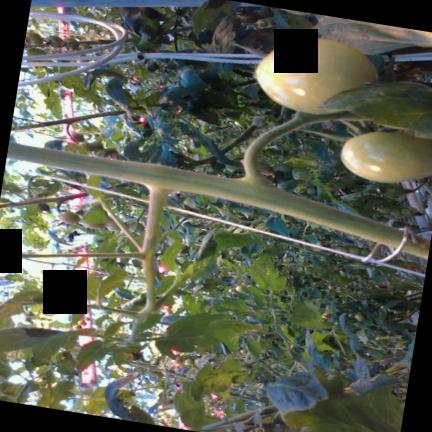6kp_peduncle: (191, 118, 312, 218), (54, 117, 78, 138), (42, 195, 70, 212)
6kp_petiole: (94, 156, 230, 250)
MainStem: (7, 141, 430, 259), (11, 109, 125, 130), (0, 192, 88, 207), (183, 155, 216, 169)
tomato: (256, 38, 376, 113), (341, 131, 432, 182), (105, 220, 144, 231), (25, 30, 43, 46), (58, 211, 80, 224), (291, 167, 310, 180), (47, 35, 62, 48), (80, 220, 104, 228), (104, 219, 120, 231), (272, 163, 292, 172), (63, 37, 78, 49), (92, 149, 108, 157), (70, 132, 84, 141), (81, 142, 95, 151), (88, 141, 103, 149), (108, 153, 125, 160), (235, 284, 248, 293), (400, 207, 414, 215), (183, 357, 194, 366), (377, 206, 391, 213), (354, 313, 366, 321), (389, 208, 401, 216), (348, 246, 360, 254), (104, 147, 117, 154), (358, 248, 370, 255), (334, 245, 348, 251), (78, 43, 91, 49), (408, 206, 419, 213), (372, 210, 382, 217), (257, 388, 266, 395), (77, 319, 86, 325), (383, 213, 393, 218), (175, 356, 183, 362), (72, 324, 80, 329)
